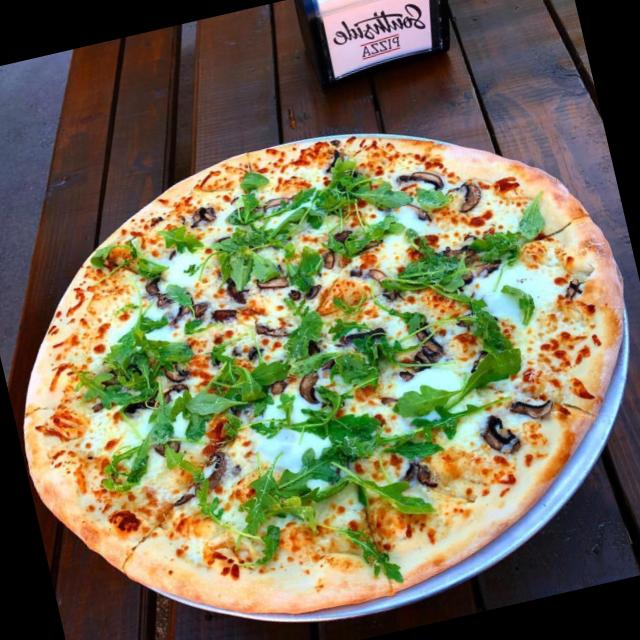mushrooms: (168, 446, 235, 508), (394, 324, 448, 380), (140, 354, 193, 405), (316, 224, 364, 268), (137, 266, 182, 310), (253, 305, 296, 341), (247, 266, 295, 298), (448, 176, 487, 214), (292, 364, 324, 409), (402, 454, 438, 493), (510, 392, 555, 422), (484, 413, 518, 452), (143, 431, 185, 461), (362, 263, 398, 298), (346, 324, 386, 353), (407, 162, 440, 194), (189, 204, 217, 232)
pizza: (24, 134, 628, 621)
